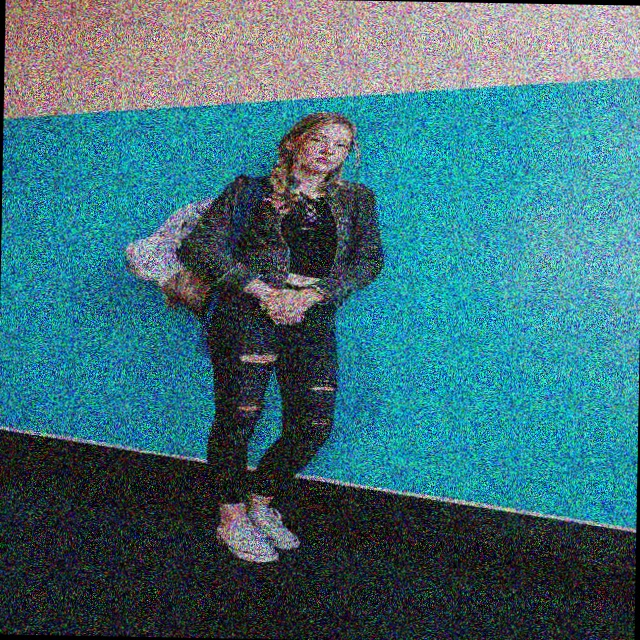Crop_Top: (238, 196, 352, 289)
ripped_pants: (203, 282, 342, 509)
